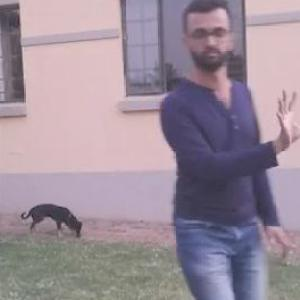follow_hand: (270, 82, 299, 149)
